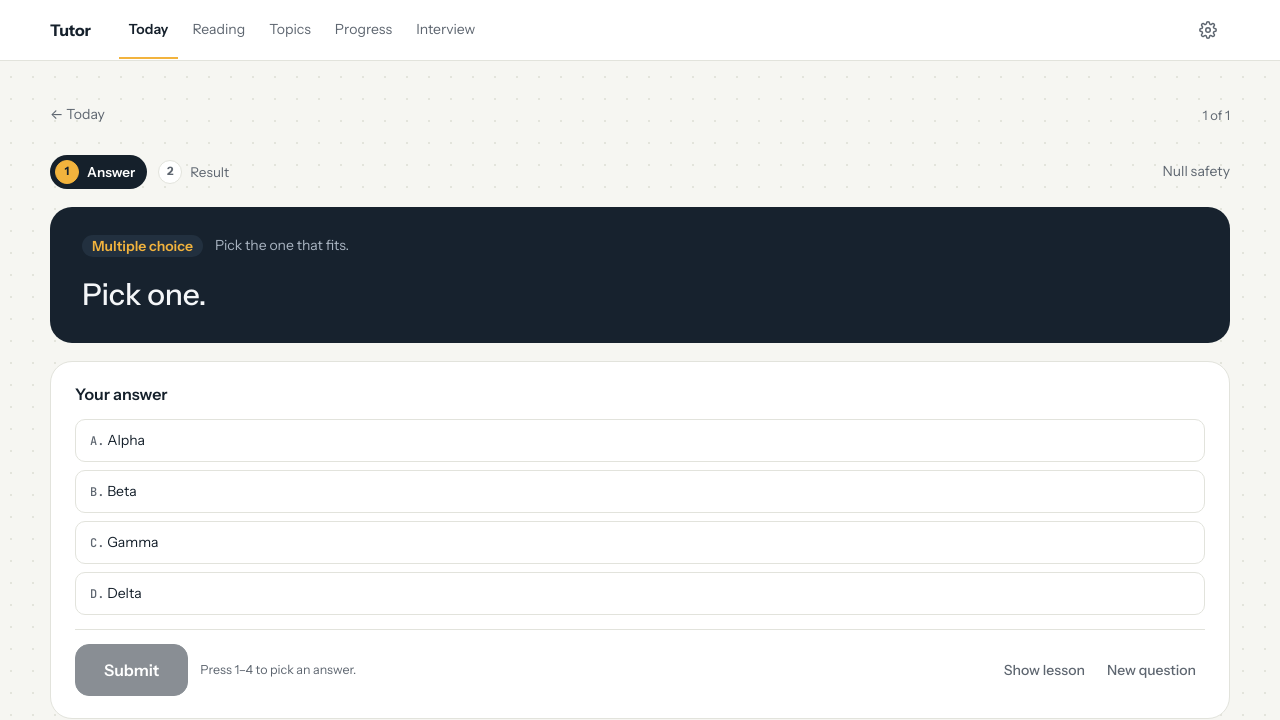
Test: mcq answers with number keys
This screenshot has width=1280, height=720.
Expected: the text "Pick one." is shown, left=82, top=276, right=206, bottom=313
Type keys "2"
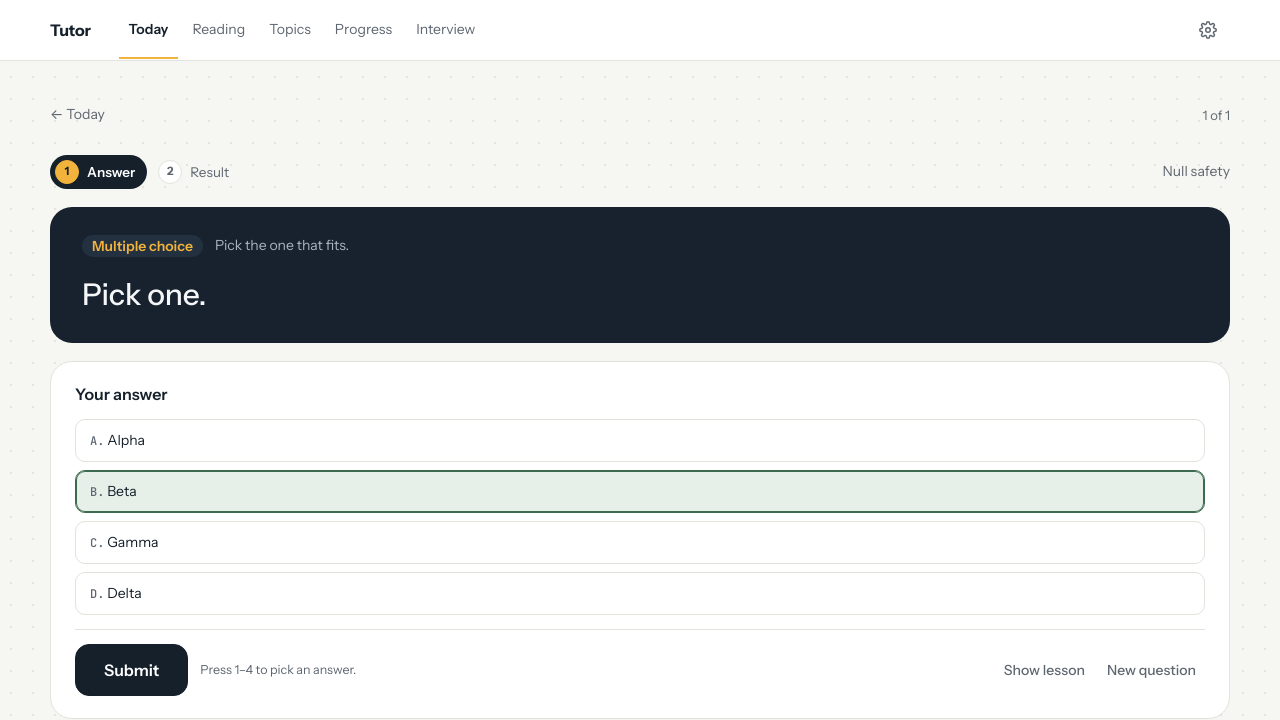
Now the button "B. Beta" is pressed, box left=75, top=470, right=1205, bottom=513
Click the button "Submit" at (132,670), box left=75, top=644, right=188, bottom=696
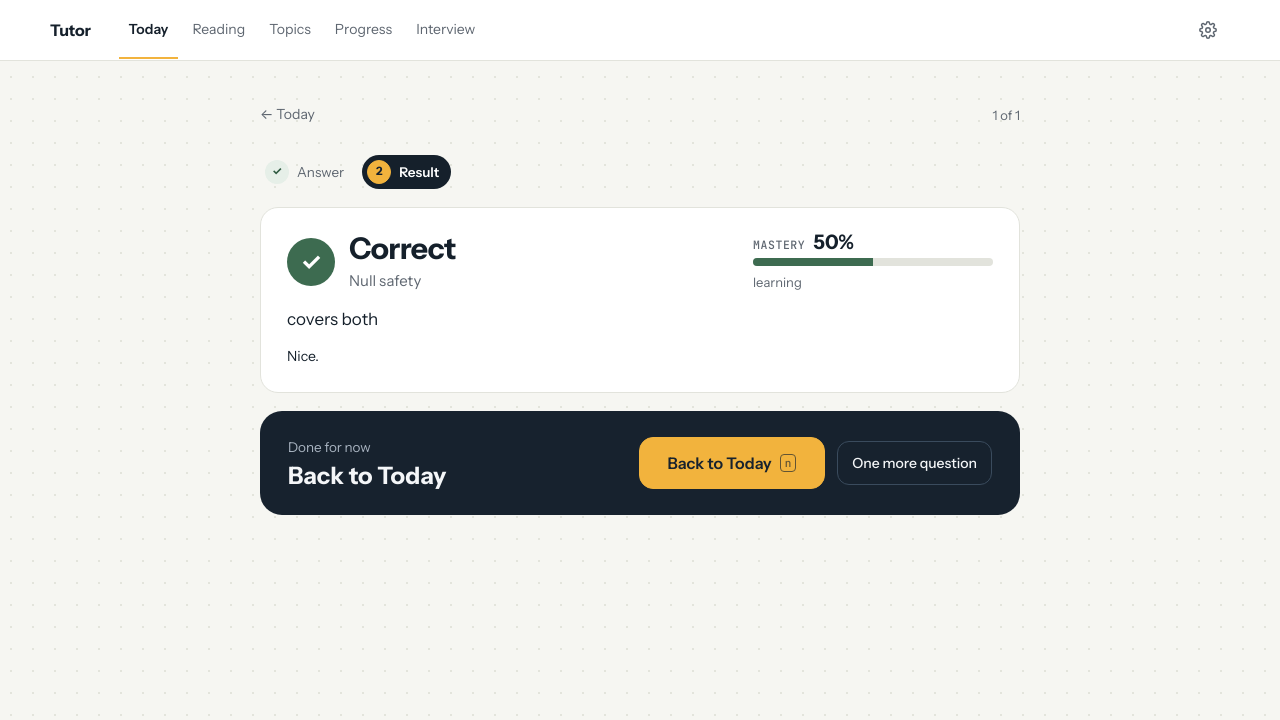
Now the heading "Correct" is shown, box left=349, top=230, right=456, bottom=267
